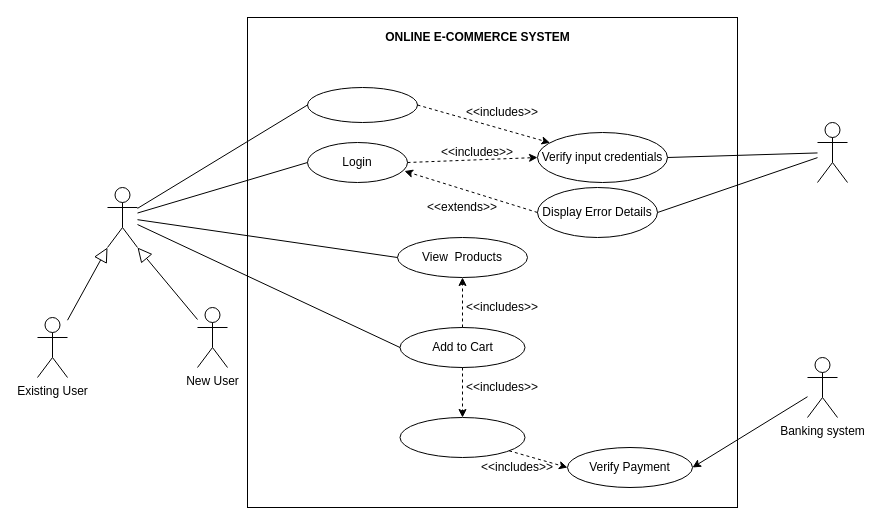
Image size: 882x525. Some labels were removed from this diagram. The centre of each missing label's shape, as x and y in pixels:
Cart Checkout: the point at 462,437
Register: the point at 362,104
System: the point at 832,152
User: the point at 122,217
